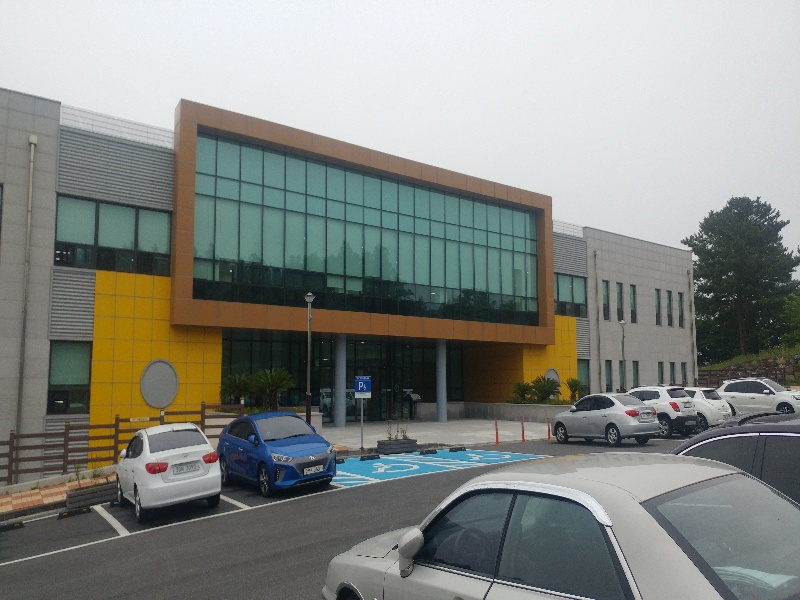Digital Library: (1, 86, 703, 391)
